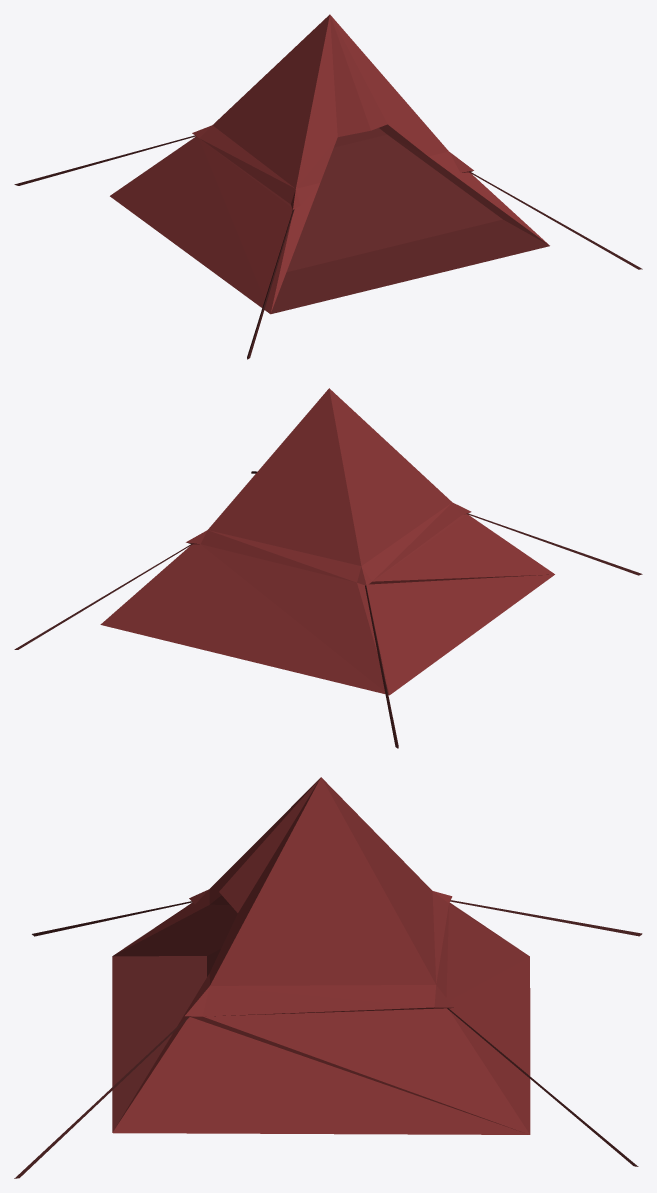
The model's file is SM_tent_1_AN.fbx.
The picture shows the model from 3 angles, top to bottom: view 1: azimuth 30°, elevation 25°; view 2: azimuth 150°, elevation 25°; view 3: azimuth 270°, elevation 25°; orthographic projection. The views are drawn at different scales.
Visible parts, largest first — view 1: SM_tent_1_AN; view 2: SM_tent_1_AN; view 3: SM_tent_1_AN.
Part boxes in pixels (bbox=[...]): SM_tent_1_AN: bbox=[14, 14, 642, 359]; SM_tent_1_AN: bbox=[14, 388, 642, 748]; SM_tent_1_AN: bbox=[14, 777, 642, 1178].
Size of the model in its own units: 202 by 108 by 219.
